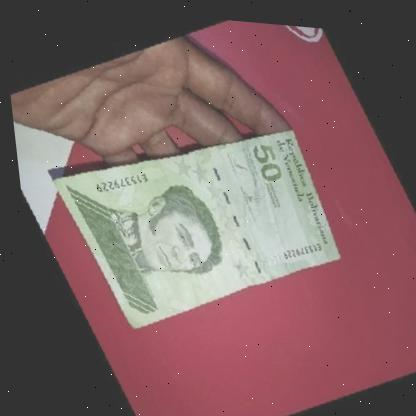fifty-front-vef: (36, 103, 353, 350)
